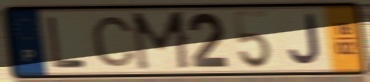2: (187, 11, 232, 71)
5: (231, 9, 275, 71)
C: (89, 15, 139, 69)
J: (287, 13, 323, 67)
L: (45, 15, 89, 70)
M: (129, 9, 194, 73)
